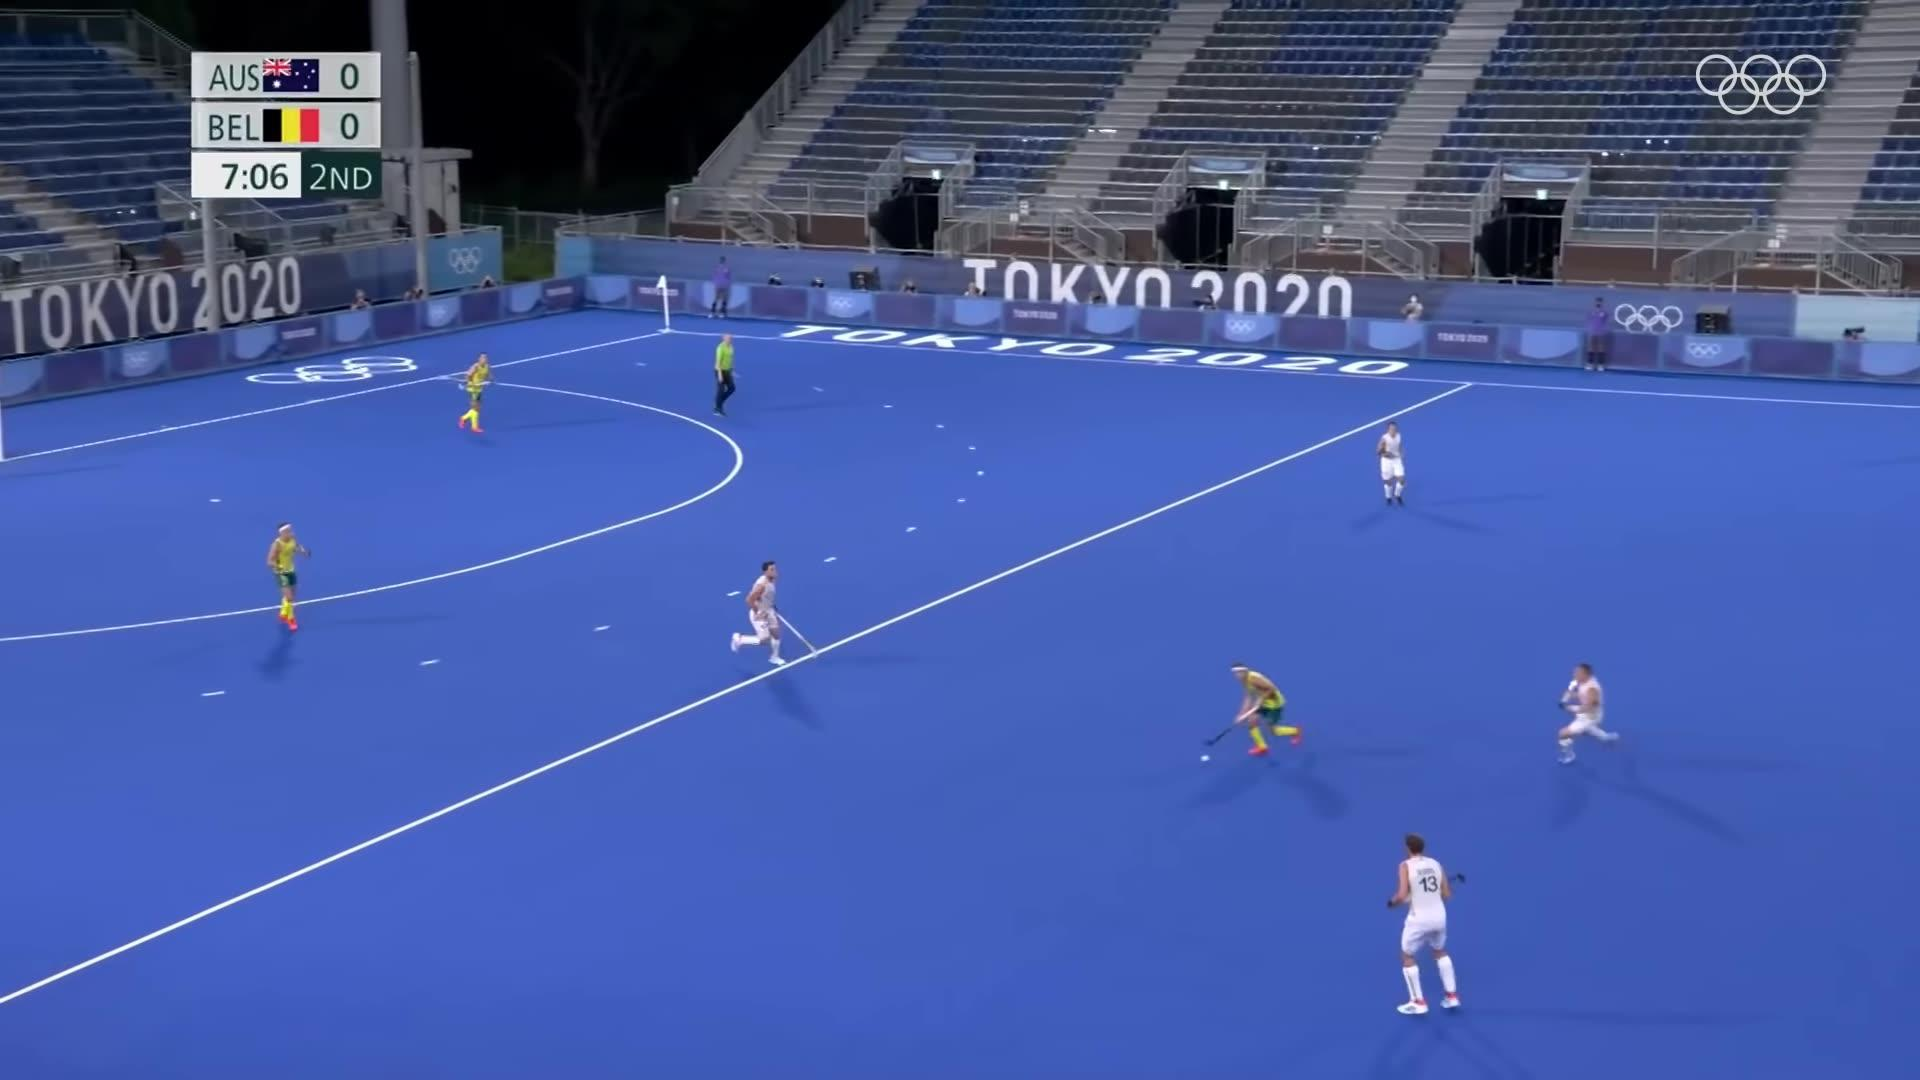ball: (1188, 748, 1219, 768)
